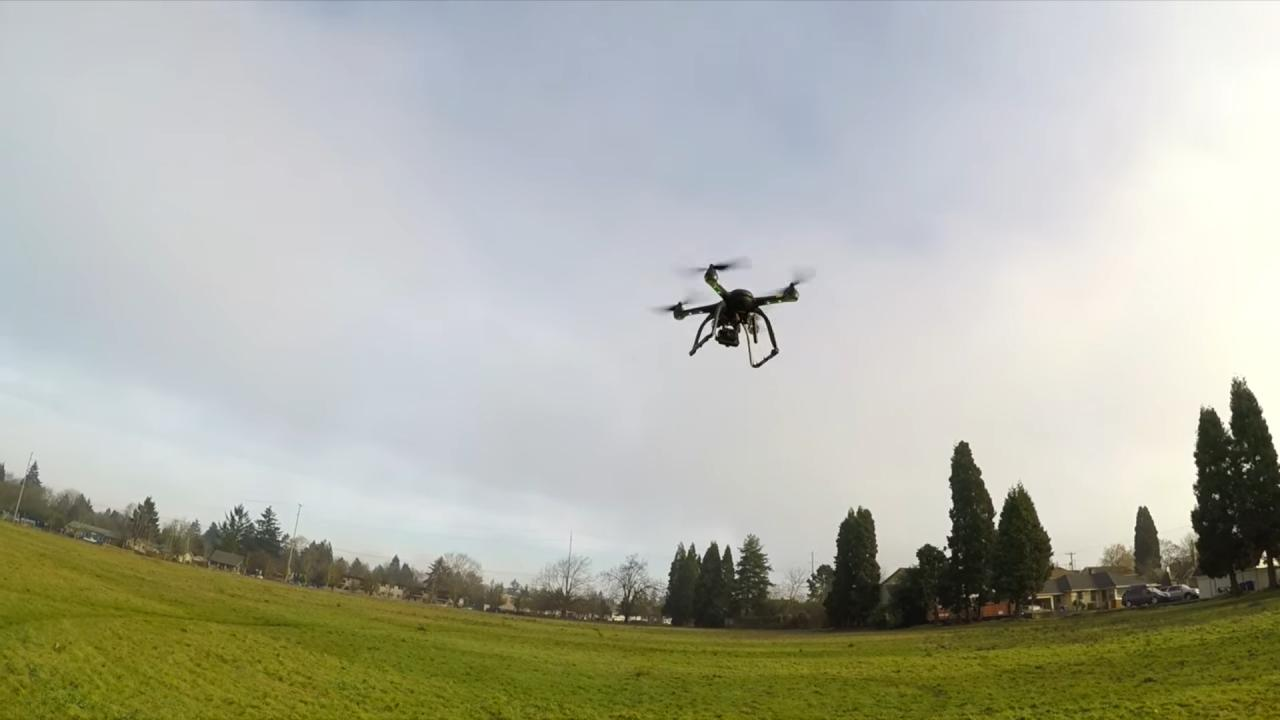Drone: (650, 248, 820, 376)
